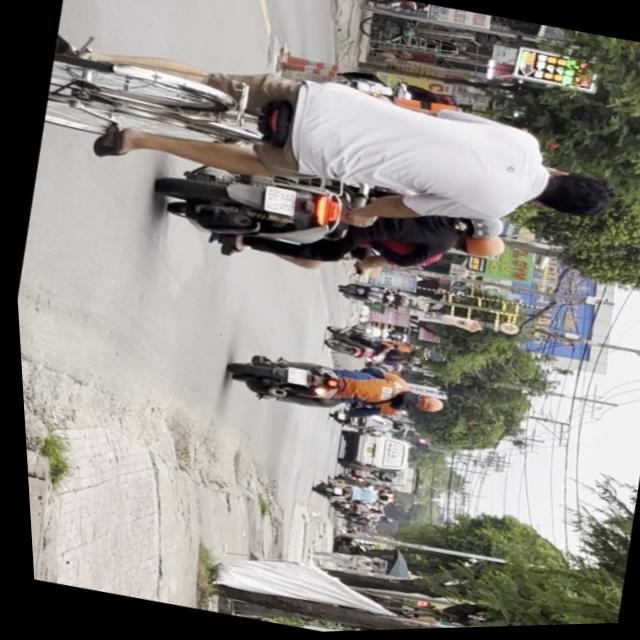helmet: (451, 231, 507, 266), (405, 392, 441, 416)
licenseplate: (141, 148, 515, 315), (220, 338, 449, 439)
nohelmet: (259, 184, 296, 217), (281, 367, 304, 386)
